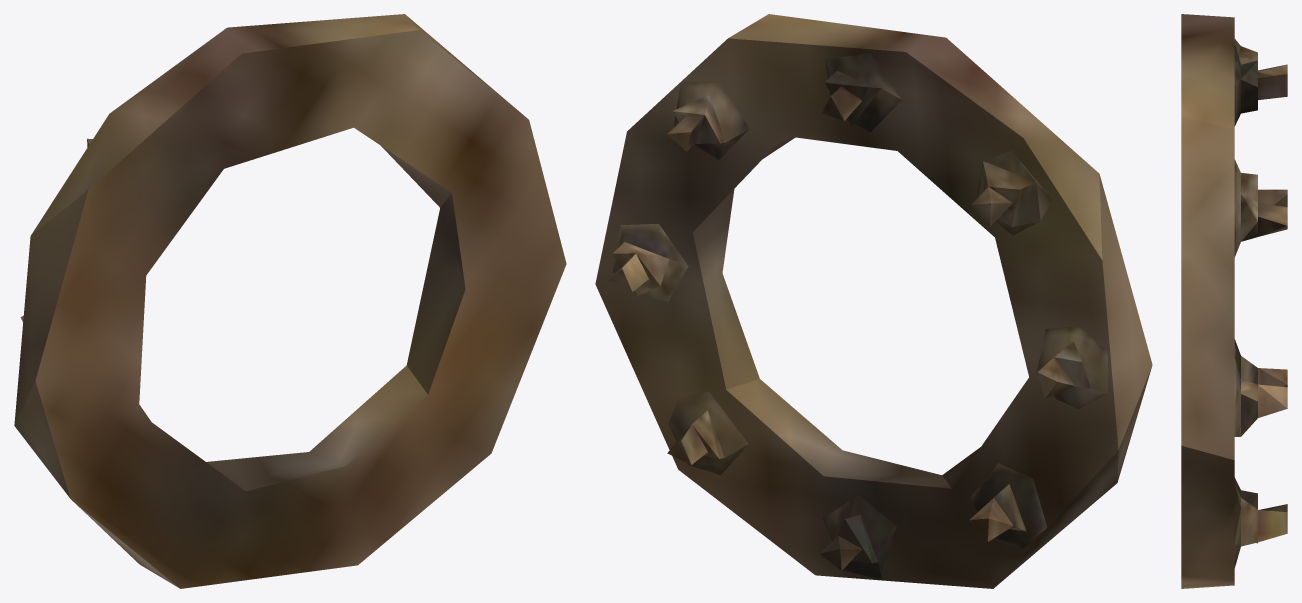
File: pipe-flange.lod1.glb
The picture shows the model from 3 angles, left to right: view 1: azimuth 30°, elevation 25°; view 2: azimuth 150°, elevation 25°; view 3: azimuth 270°, elevation 25°; orthographic projection. The views are drawn at different scales.
Visible parts, largest first — view 1: pipe-flange; view 2: pipe-flange; view 3: pipe-flange.
Boxes of the visible parts, x1,y1,x2,y2 form: pipe-flange: (14,14,566,588); pipe-flange: (595,14,1152,588); pipe-flange: (1181,14,1287,588).
Bounding box in the file's own units: 0.2857 × 0.2804 × 0.0513.
1 material, 1 textured.
